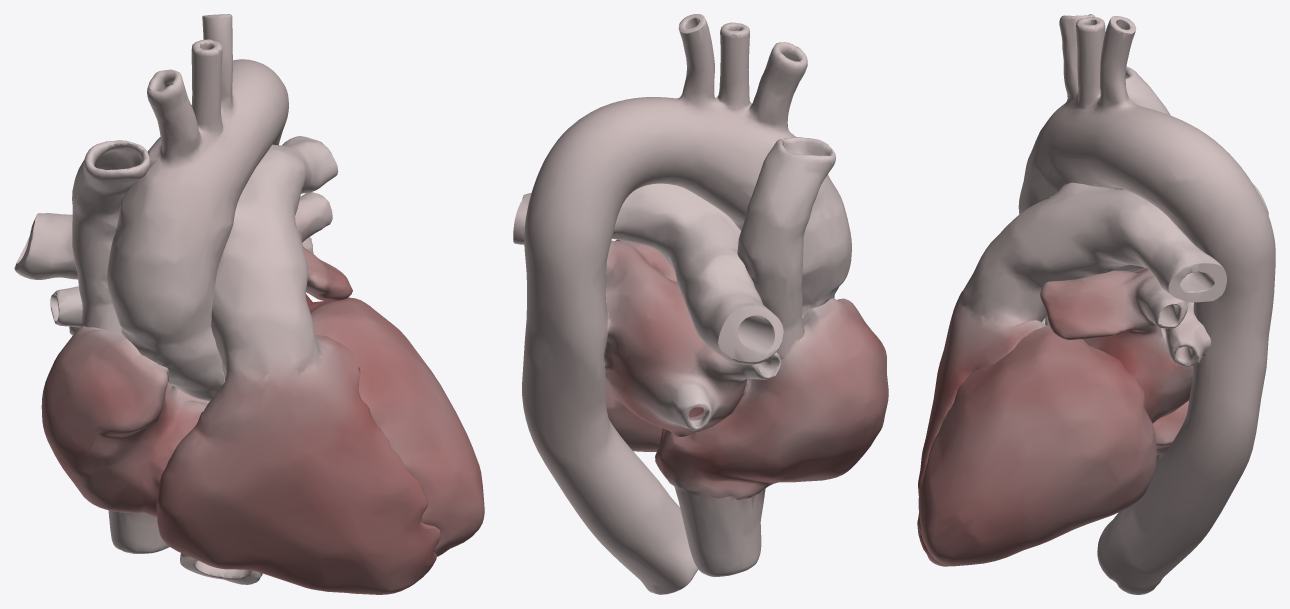
File: heart_with_blood_flow.glb
3 views of the same model, side by side, from view 1: azimuth 30°, elevation 25°; view 2: azimuth 150°, elevation 25°; view 3: azimuth 270°, elevation 25° (orthographic). The views are drawn at different scales.
Parts seen in each view (by area): view 1: Default_copy2; view 2: Default_copy2; view 3: Default_copy2.
Boxes of the visible parts, x1,y1,x2,y2 form: Default_copy2: (14, 14, 484, 594); Default_copy2: (513, 14, 888, 594); Default_copy2: (917, 14, 1275, 594).
Bounding box in the file's own units: 4.38 × 6.83 × 3.96.
